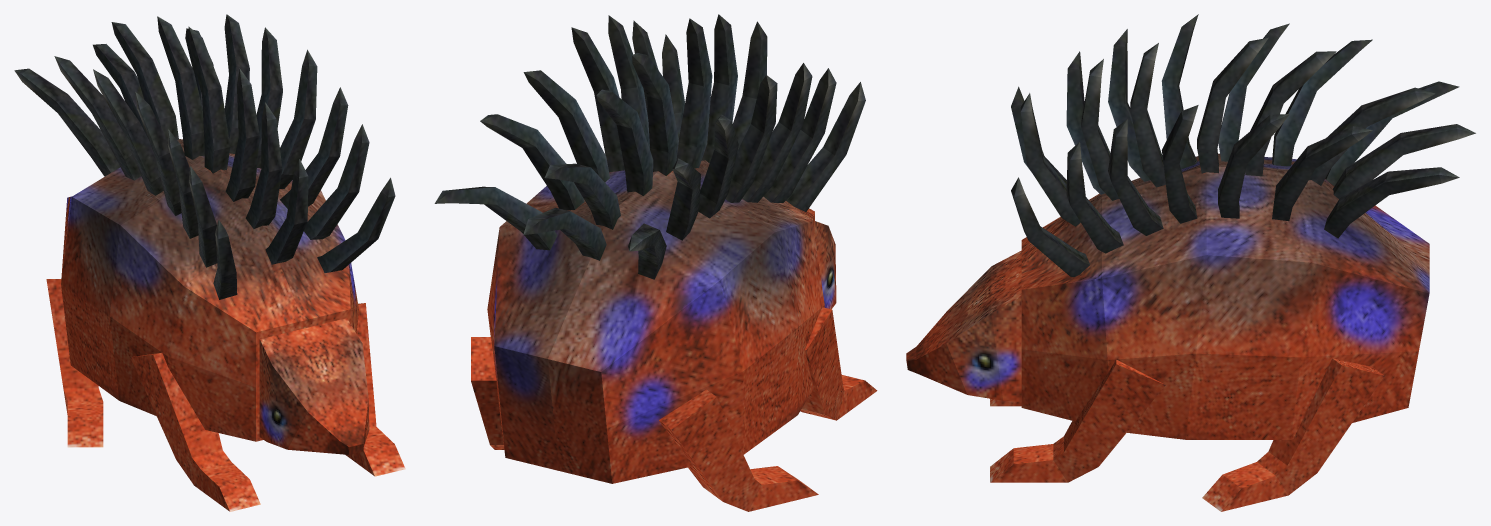
The model's file is quillbeast.obj.
3 renders of one model, left to right at view 1: azimuth 30°, elevation 25°; view 2: azimuth 150°, elevation 25°; view 3: azimuth 270°, elevation 25°, orthographic. The views are drawn at different scales.
Parts seen in each view (by area): view 1: Body, Head, LegRightFront, LegRightBack, LegLeftFront; view 2: Body, LegRightBack, LegRightFront, LegLeftBack, Head; view 3: Body, Head, LegLeftBack, LegLeftFront.
Part boxes in pixels (left/top/right/bottom): Body: left=14, top=14, right=395, bottom=441; Head: left=259, top=318, right=369, bottom=454; LegRightFront: left=130, top=352, right=260, bottom=511; LegRightBack: left=46, top=279, right=103, bottom=447; LegLeftFront: left=345, top=303, right=405, bottom=476; Body: left=434, top=14, right=865, bottom=483; LegRightBack: left=659, top=389, right=818, bottom=511; LegRightFront: left=800, top=307, right=877, bottom=420; LegLeftBack: left=471, top=337, right=504, bottom=449; Head: left=815, top=221, right=836, bottom=309; Body: left=1011, top=14, right=1475, bottom=439; Head: left=906, top=250, right=1021, bottom=401; LegLeftBack: left=1202, top=358, right=1384, bottom=511; LegLeftFront: left=990, top=359, right=1165, bottom=482.
Bounding box in the file's own units: 1.7 × 2.09 × 2.71.
